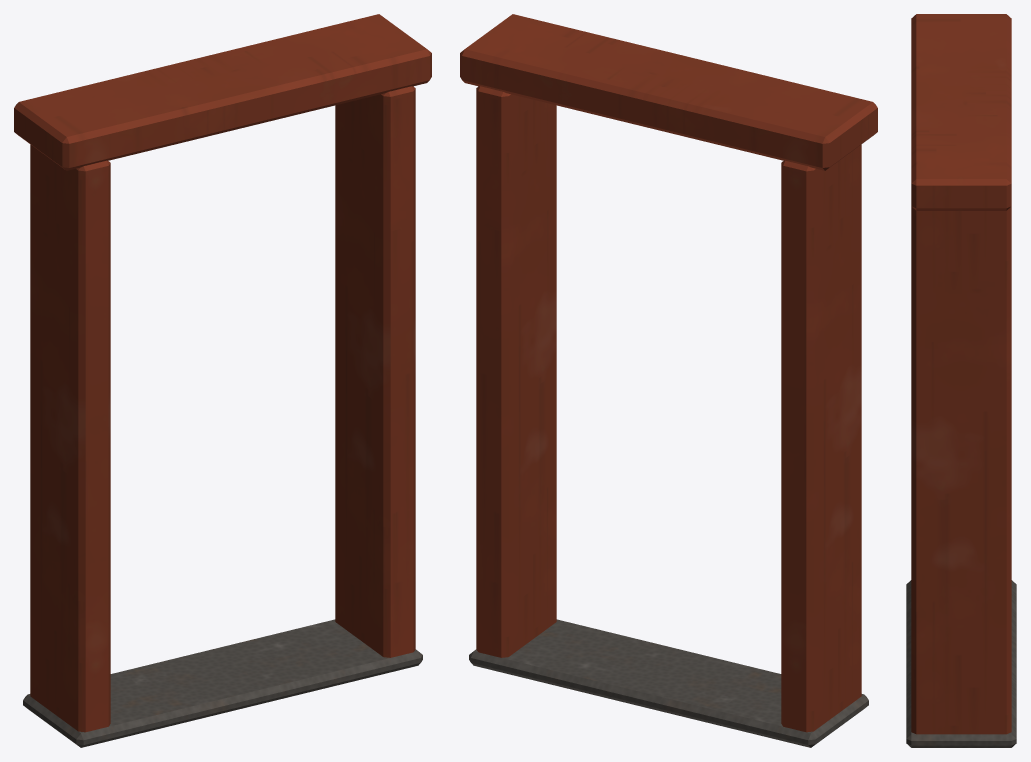
Rendered from WK_DOOR_FRAME_A_01.glb.
The picture shows the model from 3 angles, left to right: view 1: azimuth 30°, elevation 25°; view 2: azimuth 150°, elevation 25°; view 3: azimuth 270°, elevation 25°; orthographic projection. The views are drawn at different scales.
Parts seen in each view (by area): view 1: WK_DOOR_FRAME_A_01; view 2: WK_DOOR_FRAME_A_01; view 3: WK_DOOR_FRAME_A_01.
Boxes of the visible parts, x1,y1,x2,y2 form: WK_DOOR_FRAME_A_01: [14, 14, 431, 747]; WK_DOOR_FRAME_A_01: [460, 14, 877, 747]; WK_DOOR_FRAME_A_01: [906, 14, 1016, 747].
Bounding box in the file's own units: 1.6 × 2.53 × 0.44.
3 materials, 3 textured.
